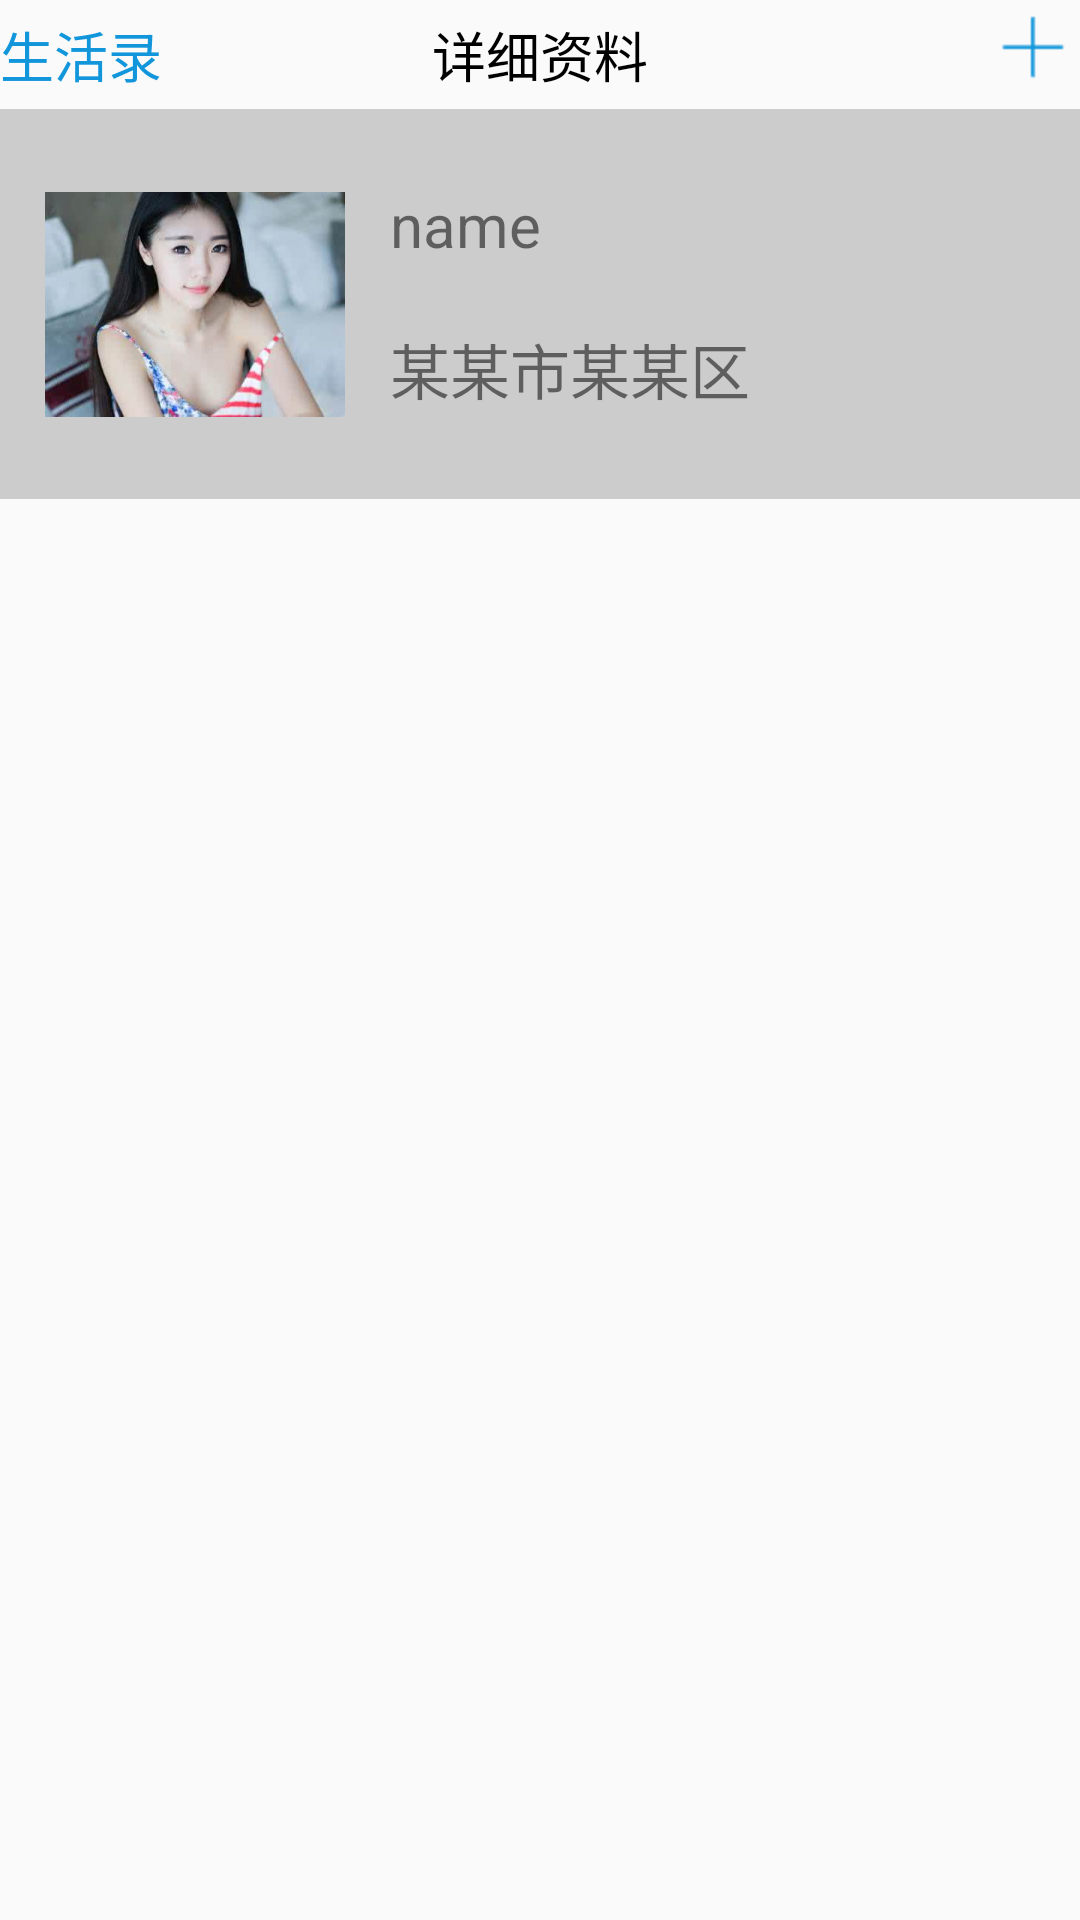

Point at icon controls on the screen. Image size 1080px x 1920px, points as (x=x, y=y).
add: (x=1033, y=47)
